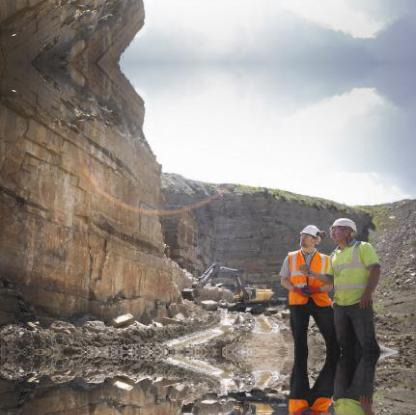Safety Helmet: (292, 221, 325, 257), (327, 215, 360, 247)
